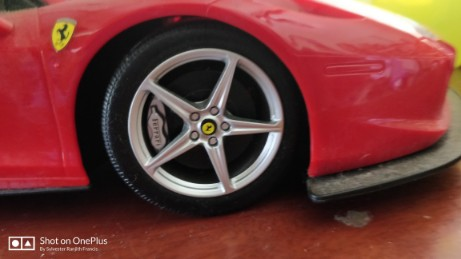unaligned_wheel: (117, 37, 298, 218)
